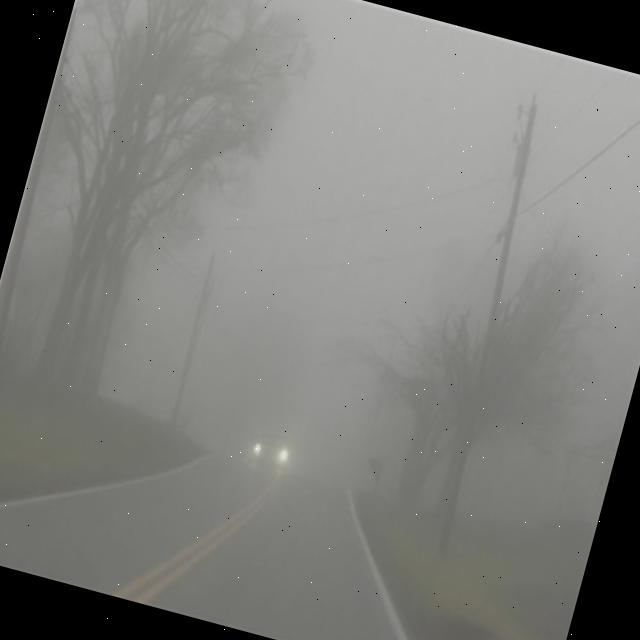car: (247, 418, 296, 476)
